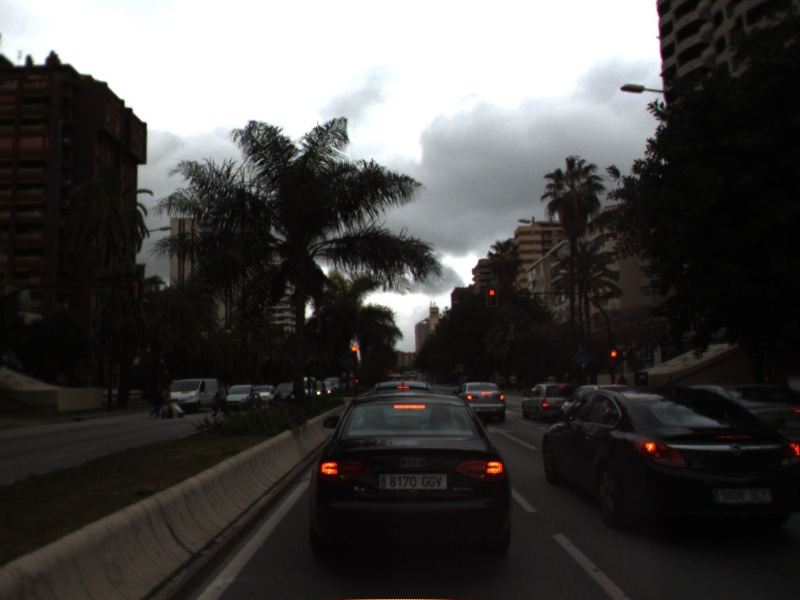STRAIGHT: (485, 423, 540, 451)
